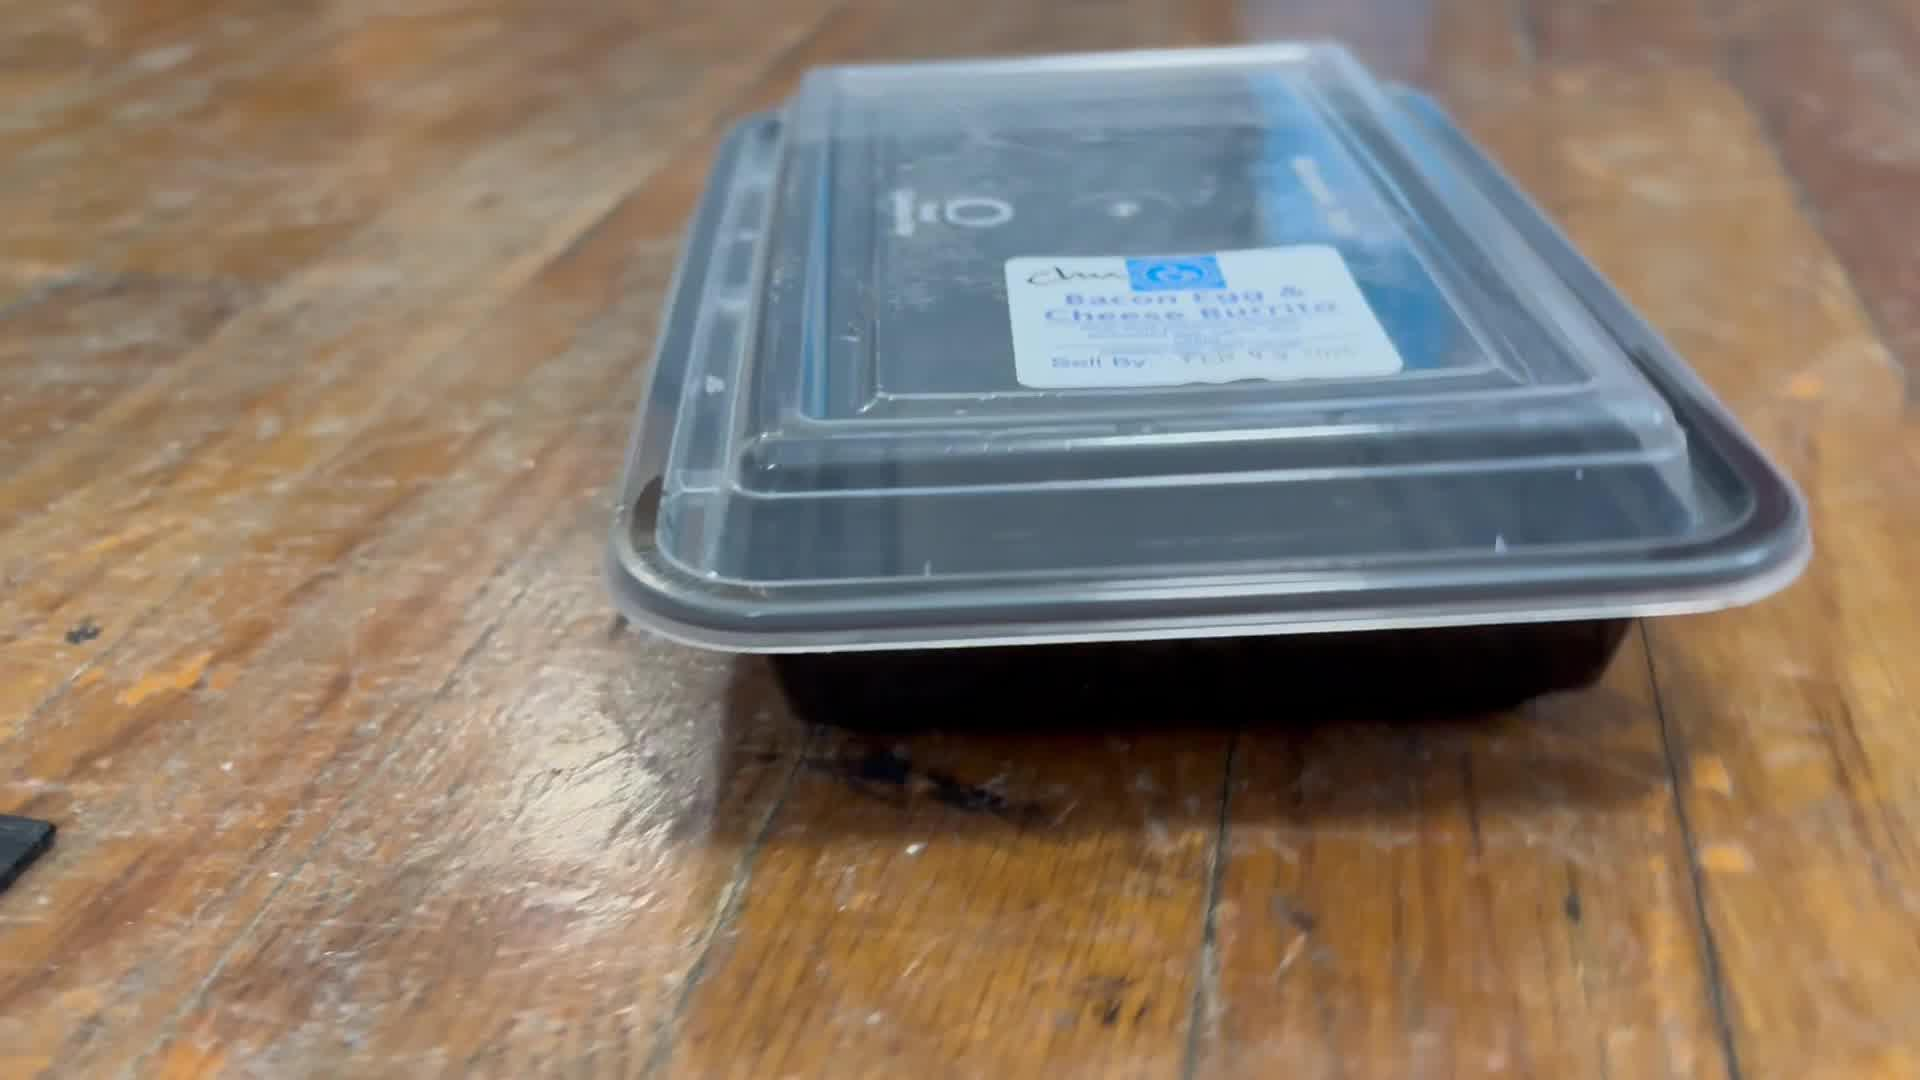lp_cup_lids: (592, 40, 1820, 745)
